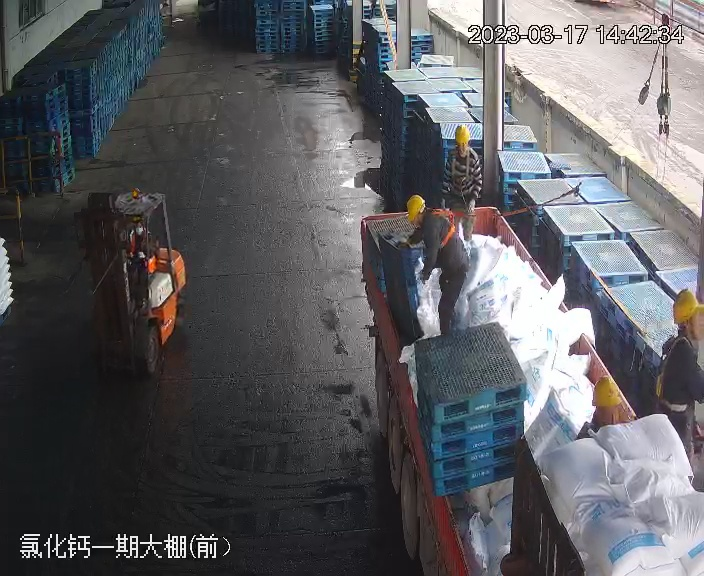belt: (655, 335, 698, 411), (422, 206, 464, 247), (450, 148, 476, 187)
head: (659, 287, 703, 377), (404, 194, 453, 240), (447, 123, 479, 164)
helmet: (670, 288, 702, 327), (590, 374, 624, 406), (405, 193, 426, 222), (454, 124, 472, 147)
people: (402, 195, 471, 336), (656, 296, 703, 485), (444, 124, 485, 246)
truck: (354, 59, 695, 576)
